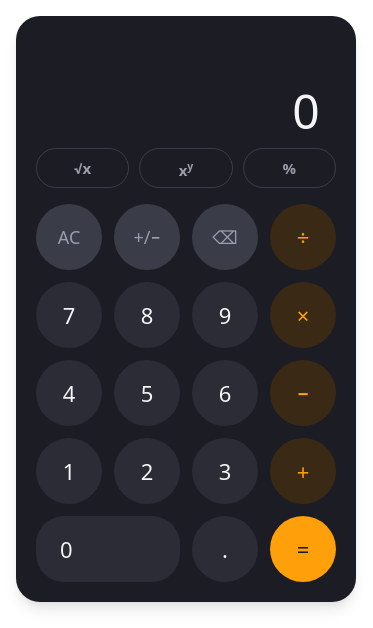
Scenario: Calculator › clears the display when AC is pressed
Click the button "7". click: (69, 315)
box: [36, 282, 102, 348]
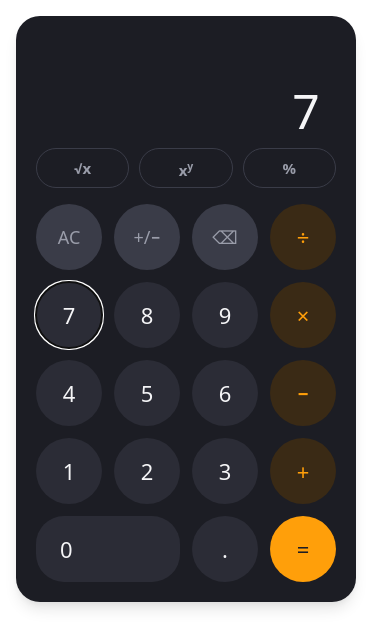
expect the text with test id "display" reads "7": met, box [292, 78, 320, 143]
Click the button "AC". click: (69, 237)
box: [36, 204, 102, 270]
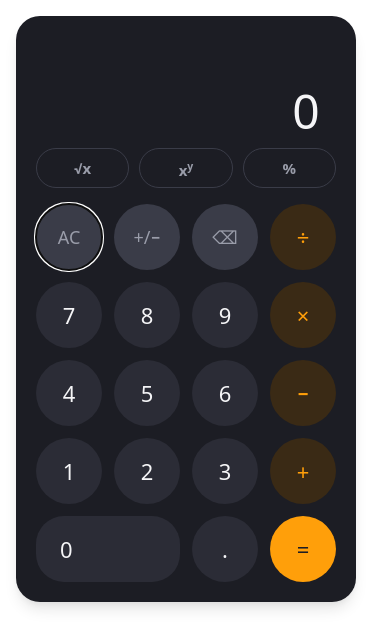
expect the text with test id "display" reads "0": met, box [292, 78, 320, 143]
